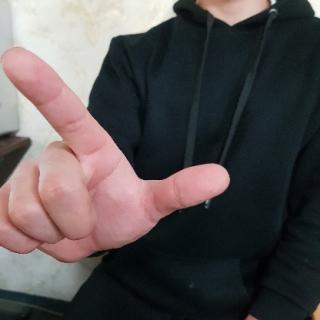LAAM: (0, 41, 235, 264)
